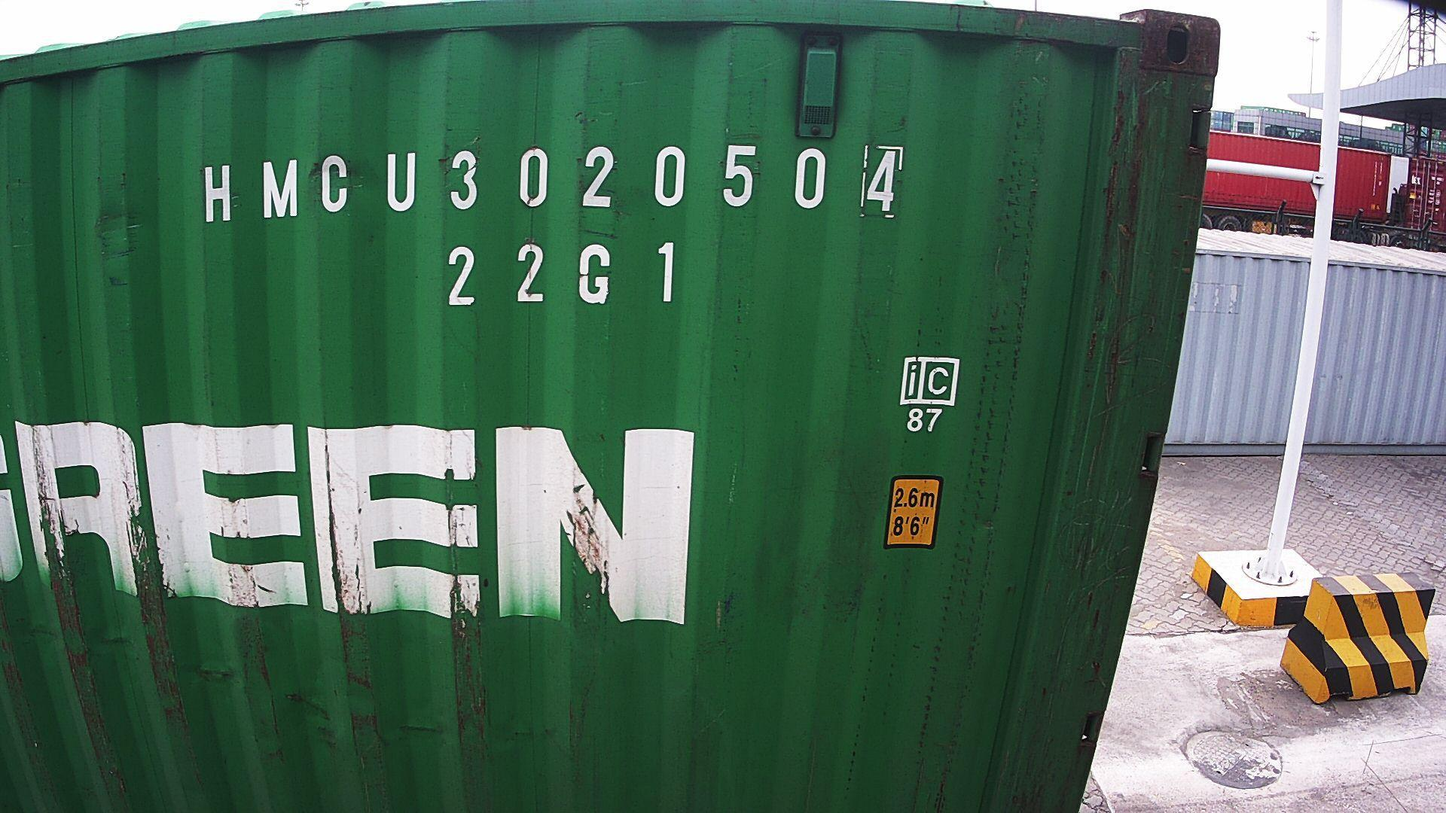container-numbers: (194, 137, 904, 230), (433, 238, 682, 314)
